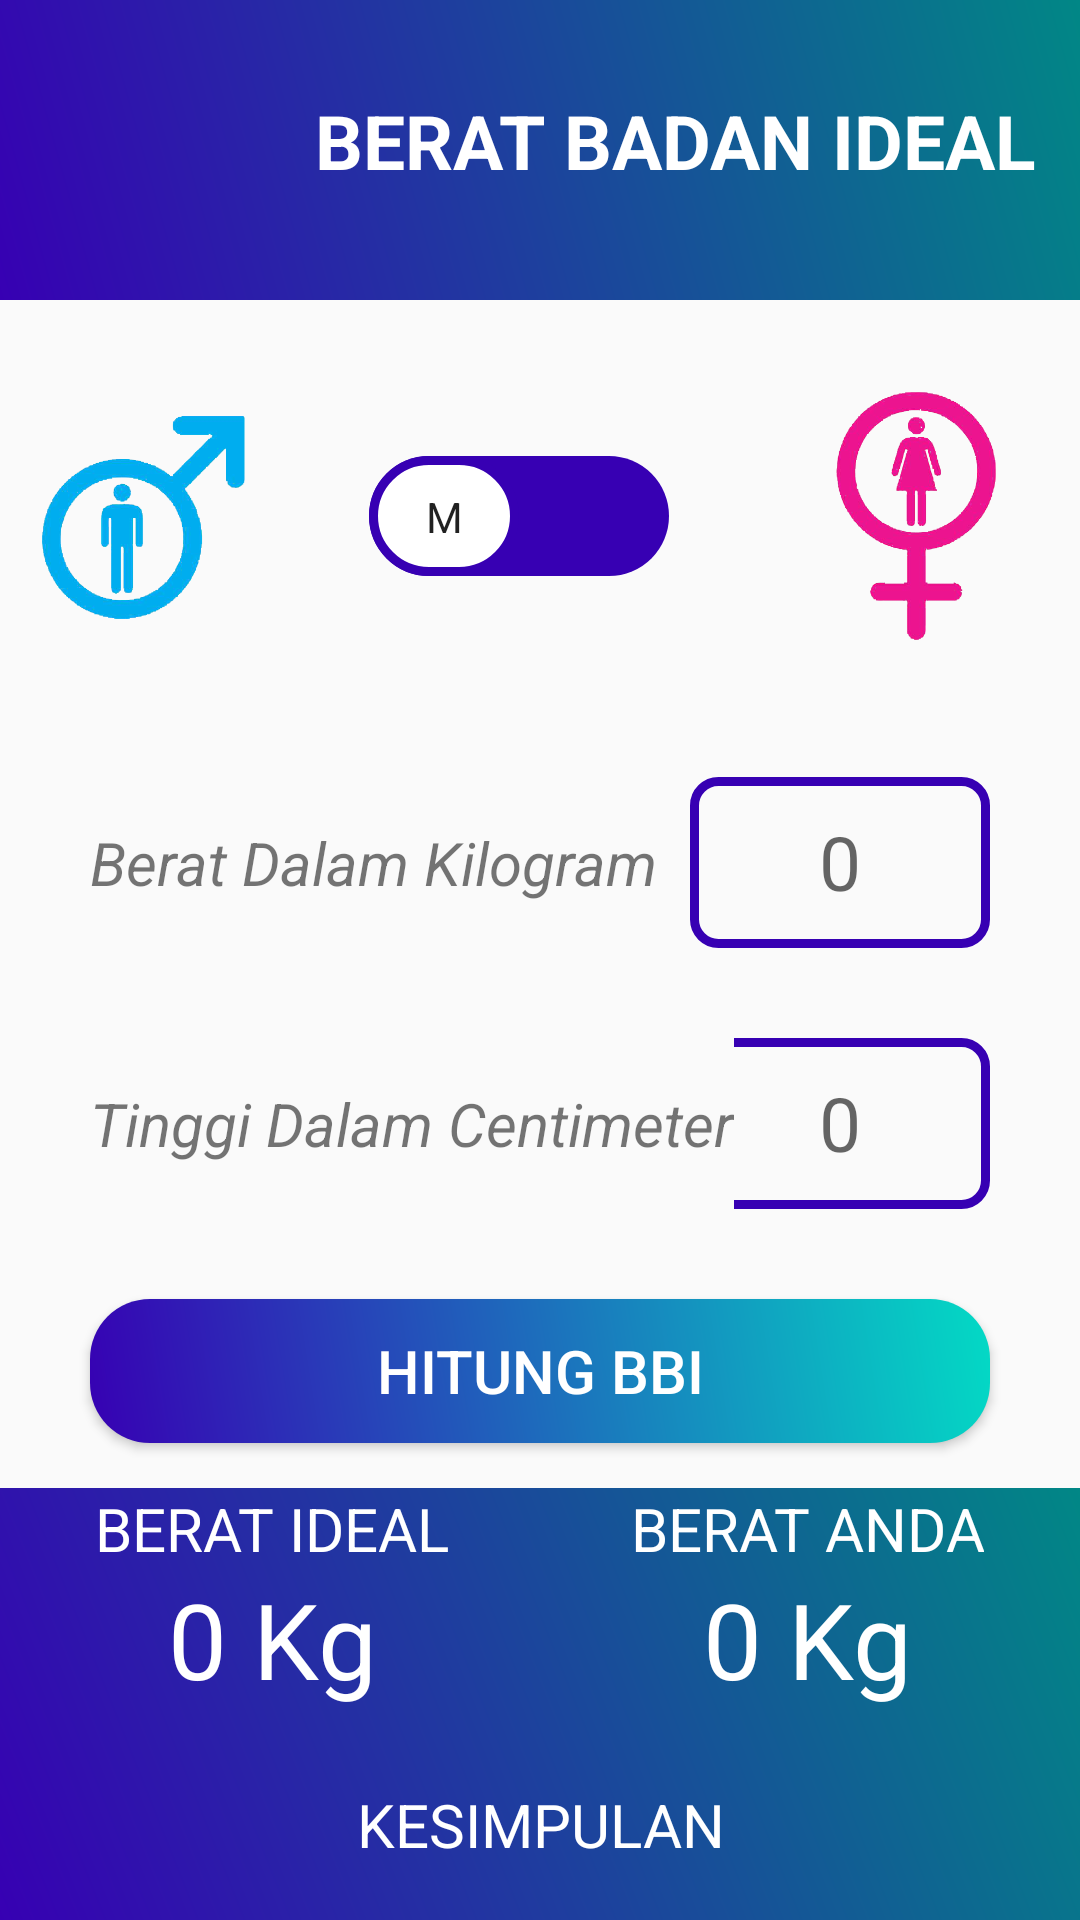

Named icons in this screenshot (1080*1920) and their centers, (x=x, y=y):
female: (x=916, y=516)
male: (x=143, y=517)
